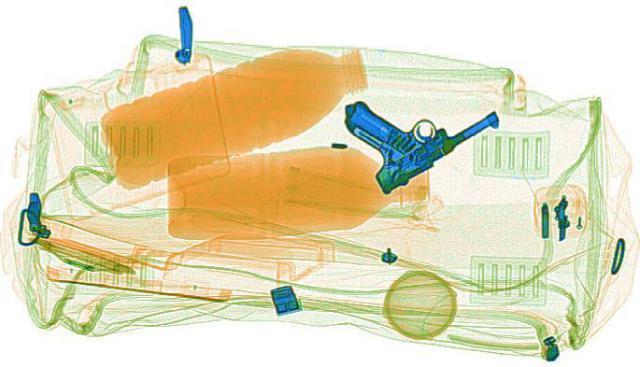Gun: (302, 88, 502, 201)
